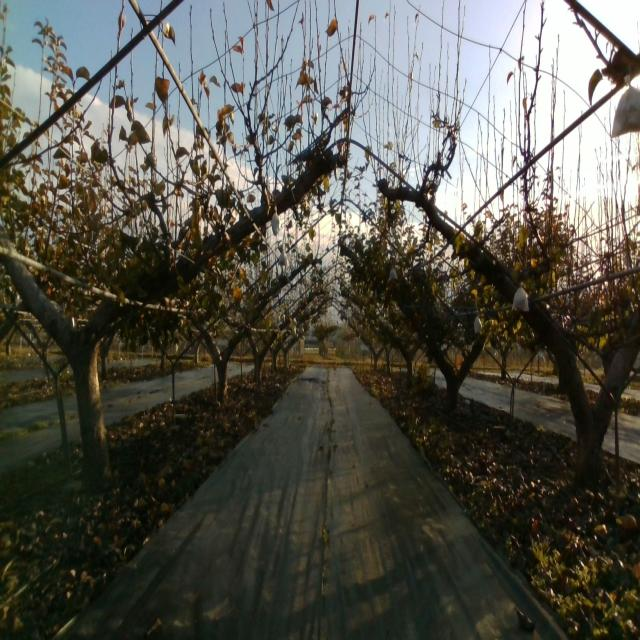pearbags: (609, 75, 640, 137), (511, 282, 530, 312)
